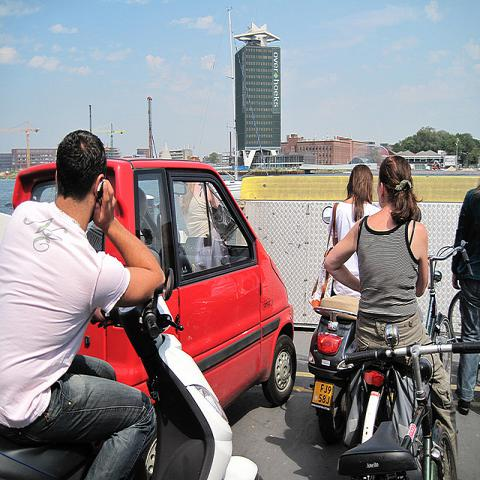car: (11, 161, 296, 410), (428, 164, 438, 170)
motorcycle: (106, 268, 258, 474), (307, 295, 361, 446)
